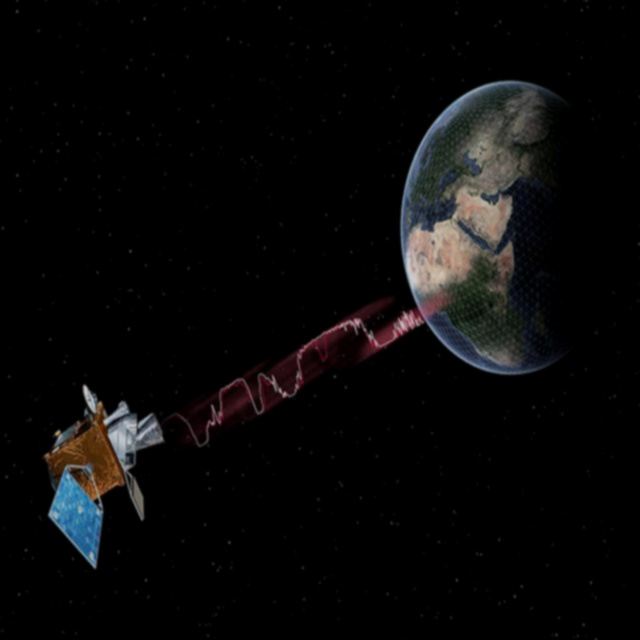satellite: (41, 384, 168, 570)
